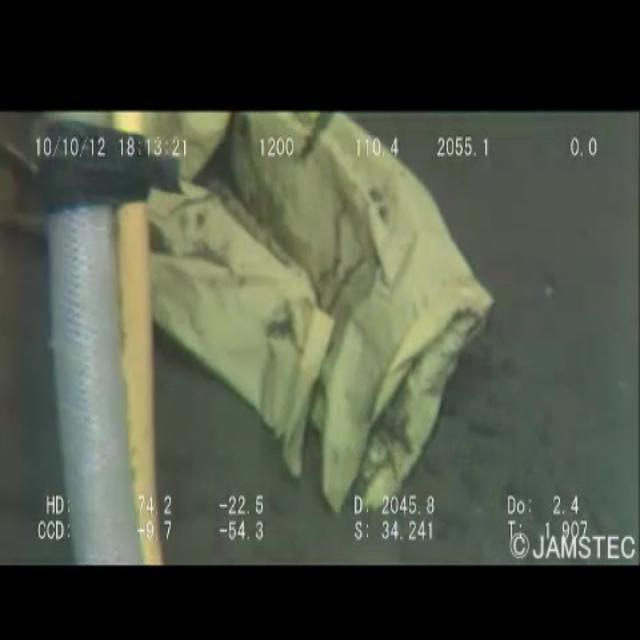Accessories: (139, 117, 506, 520)
